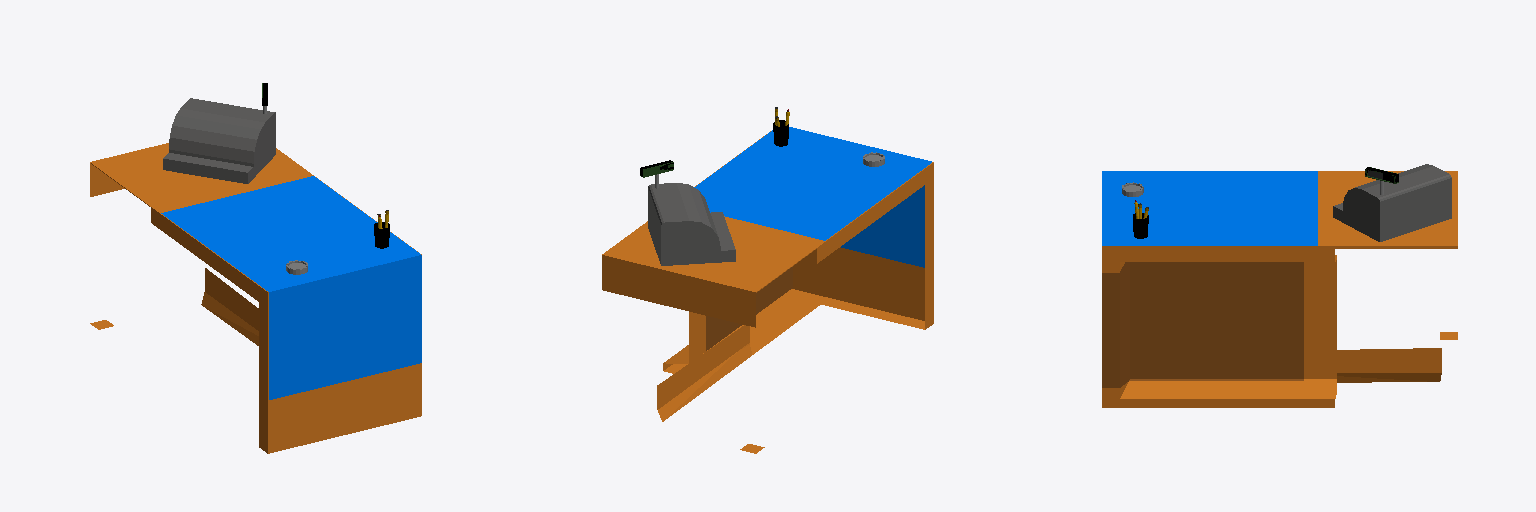
The picture shows the model from 3 angles: view 1: azimuth 30°, elevation 25°; view 2: azimuth 150°, elevation 25°; view 3: azimuth 270°, elevation 25°; orthographic projection.
Visible parts, largest first — view 1: pCube1, pCube2; view 2: pCube1, pCube2; view 3: pCube1, pCube2.
Part boxes in pixels (left/top/right/bottom): pCube1: left=90, top=143, right=421, bottom=453; pCube2: left=163, top=98, right=275, bottom=183; pCube1: left=602, top=127, right=933, bottom=453; pCube2: left=648, top=183, right=735, bottom=265; pCube1: left=1102, top=171, right=1457, bottom=407; pCube2: left=1333, top=164, right=1451, bottom=241.
Bounding box in the file's own units: 1 × 1.41 × 2.
Materials: 6 (5 with a texture image).